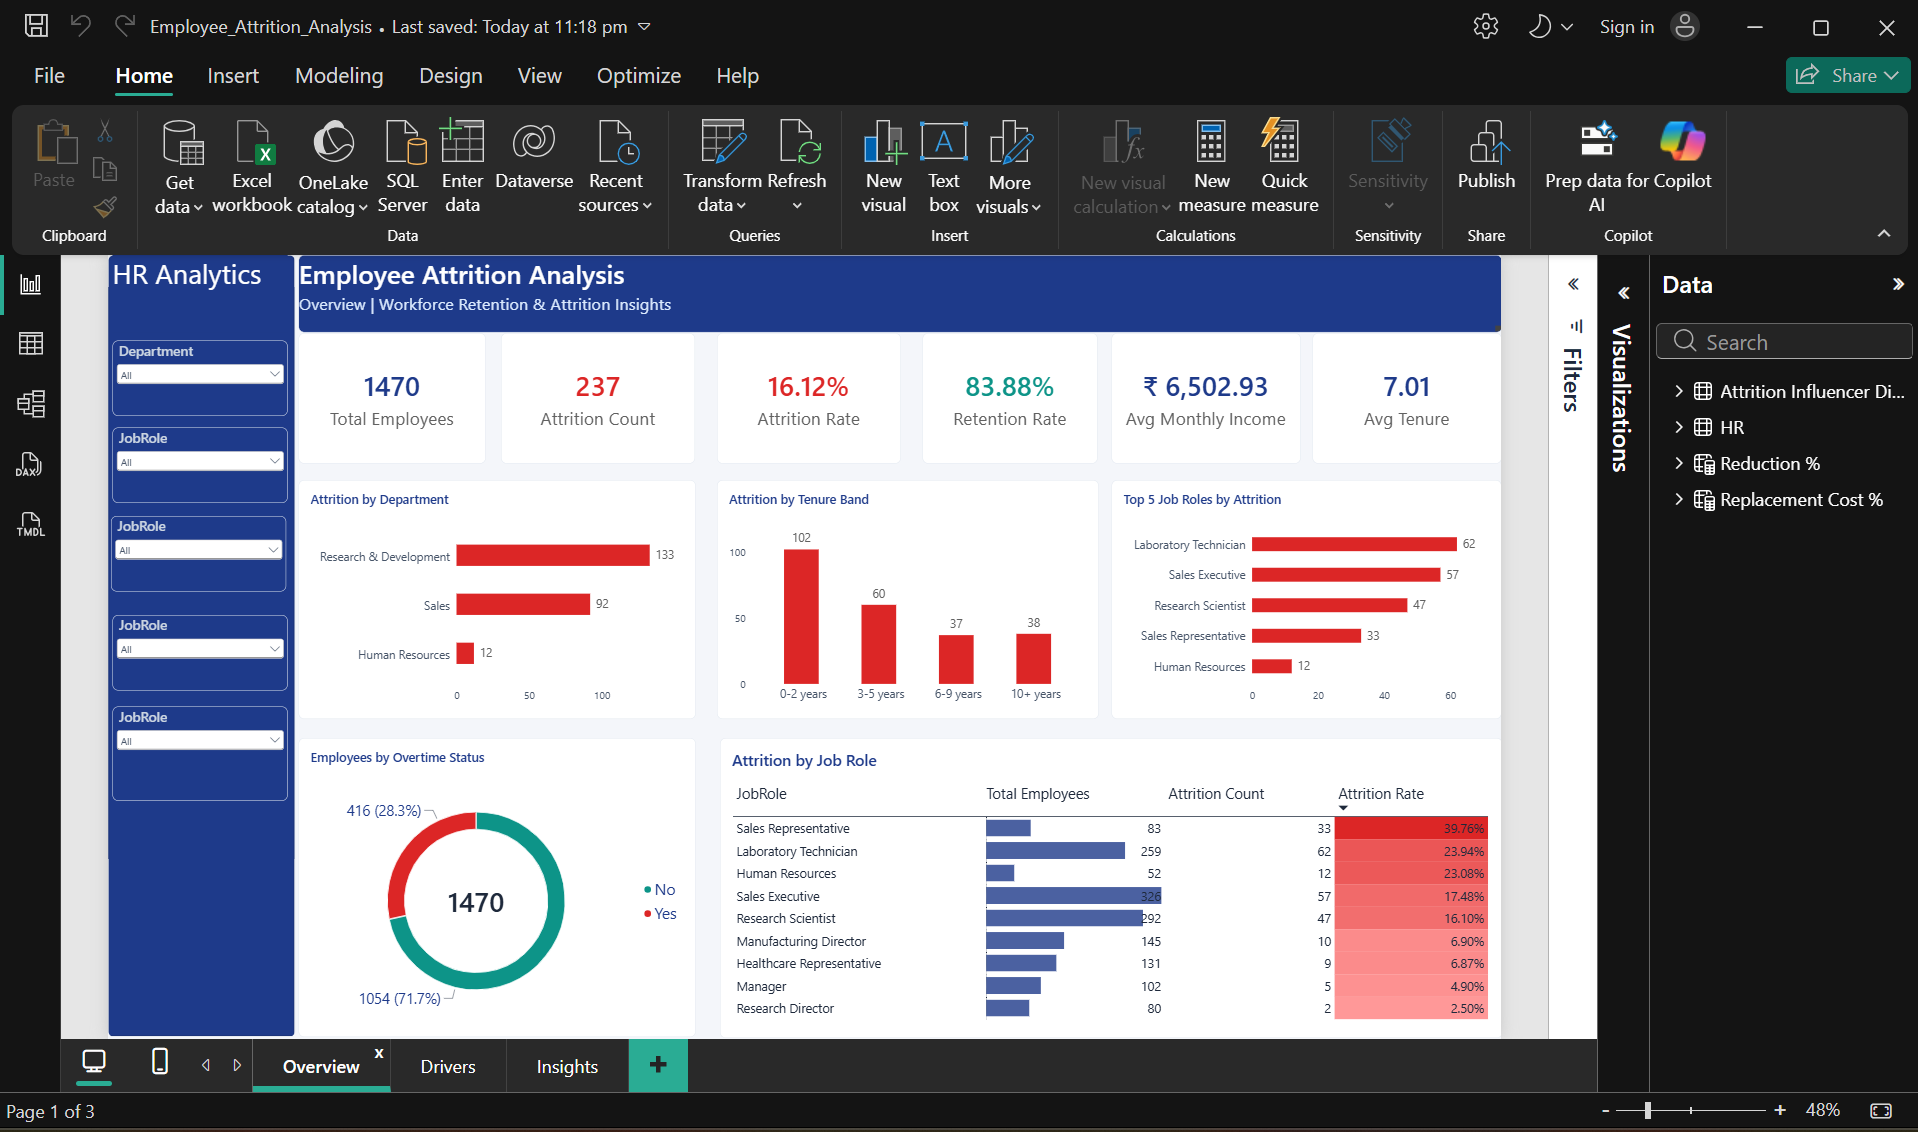

The page's visual inventory and layout, read from the dashboard file:
{"tool":"powerbi","page":{"name":"Overview","canvas":[1920,1080],"ordinal":0},"visuals":[{"type":"textbox","title":"Employee Attrition Analysis","box":[262.9,0,1657.9,106.6],"z":0},{"type":"card","fields":{"Values":["HR.Total Employees"]},"box":[262.9,106.6,258.2,180],"z":1000},{"type":"card","fields":{"Values":["HR.Attrition Count"]},"box":[542.4,106.6,267.6,180],"z":2000},{"type":"card","fields":{"Values":["HR.Attrition Rate"]},"box":[838.4,106.6,253.4,180],"z":3000},{"type":"card","fields":{"Values":["HR.Retention Rate"]},"box":[1122.6,106.6,241.6,180],"z":4000},{"type":"card","fields":{"Values":["HR.Avg Monthly Income"]},"box":[1383.2,106.6,260.5,180],"z":5000},{"type":"card","fields":{"Values":["HR.Avg Tenure"]},"box":[1660.3,106.6,260.5,180],"z":6000},{"type":"clusteredBarChart","title":"Attrition by Department","fields":{"Category":["HR.Department"],"Y":["HR.Attrition Count"]},"box":[262.9,310.3,547.1,329.2],"z":7000},{"type":"clusteredColumnChart","title":"Attrition by Tenure Band","fields":{"Category":["HR.Tenure Band"],"Y":["HR.Attrition Count"]},"box":[838.4,310.3,525.8,329.2],"z":8000},{"type":"clusteredBarChart","title":"Top 5 Job Roles by Attrition","fields":{"Category":["HR.JobRole"],"Y":["HR.Attrition Count"]},"box":[1383.2,310.3,537.6,329.2],"z":9000},{"type":"donutChart","title":"Employees by Overtime Status","fields":{"Category":["HR.OverTime"],"Y":["HR.Total Employees"]},"box":[262.9,665.5,547.1,412.1],"z":10000},{"type":"tableEx","title":"Attrition by Job Role","fields":{"Values":["HR.JobRole","HR.Total Employees","HR.Attrition Count","HR.Attrition Rate"]},"box":[842.9,664.8,1077.9,413.1],"z":11000},{"type":"shape","box":[0,0,258.2,1077.6],"z":13000},{"type":"slicer","fields":{"Values":["HR.Department"]},"box":[7.1,118.4,241.6,104.2],"z":14000},{"type":"slicer","fields":{"Values":["HR.JobRole"]},"box":[7.1,236.8,241.6,104.2],"z":15000},{"type":"slicer","fields":{"Values":["HR.JobRole"]},"box":[4.7,360,241.6,104.2],"z":16000},{"type":"slicer","fields":{"Values":["HR.JobRole"]},"box":[7.1,495,241.6,104.2],"z":17000},{"type":"slicer","fields":{"Values":["HR.JobRole"]},"box":[7.1,622.9,241.6,130.3],"z":18000},{"type":"textbox","box":[7.1,0,241.6,106.6],"z":19000}]}

Visuals, with their boxes on the page's 1920x1080 design canvas (x1, y1, x2, y2). These are canvas units, not pixel positions in the 1918x1132 screenshot, which may show the page scaled, cropped or inside an application window:
"Employee Attrition Analysis" textbox: [x1=263, y1=0, x2=1921, y2=107]
card - HR.Total Employees: [x1=263, y1=107, x2=521, y2=287]
card - HR.Attrition Count: [x1=542, y1=107, x2=810, y2=287]
card - HR.Attrition Rate: [x1=838, y1=107, x2=1092, y2=287]
card - HR.Retention Rate: [x1=1123, y1=107, x2=1364, y2=287]
card - HR.Avg Monthly Income: [x1=1383, y1=107, x2=1644, y2=287]
card - HR.Avg Tenure: [x1=1660, y1=107, x2=1921, y2=287]
"Attrition by Department" clusteredBarChart: [x1=263, y1=310, x2=810, y2=640]
"Attrition by Tenure Band" clusteredColumnChart: [x1=838, y1=310, x2=1364, y2=640]
"Top 5 Job Roles by Attrition" clusteredBarChart: [x1=1383, y1=310, x2=1921, y2=640]
"Employees by Overtime Status" donutChart: [x1=263, y1=666, x2=810, y2=1078]
"Attrition by Job Role" tableEx: [x1=843, y1=665, x2=1921, y2=1078]
shape: [x1=0, y1=0, x2=258, y2=1078]
slicer - HR.Department: [x1=7, y1=118, x2=249, y2=223]
slicer - HR.JobRole: [x1=7, y1=237, x2=249, y2=341]
slicer - HR.JobRole: [x1=5, y1=360, x2=246, y2=464]
slicer - HR.JobRole: [x1=7, y1=495, x2=249, y2=599]
slicer - HR.JobRole: [x1=7, y1=623, x2=249, y2=753]
textbox: [x1=7, y1=0, x2=249, y2=107]
